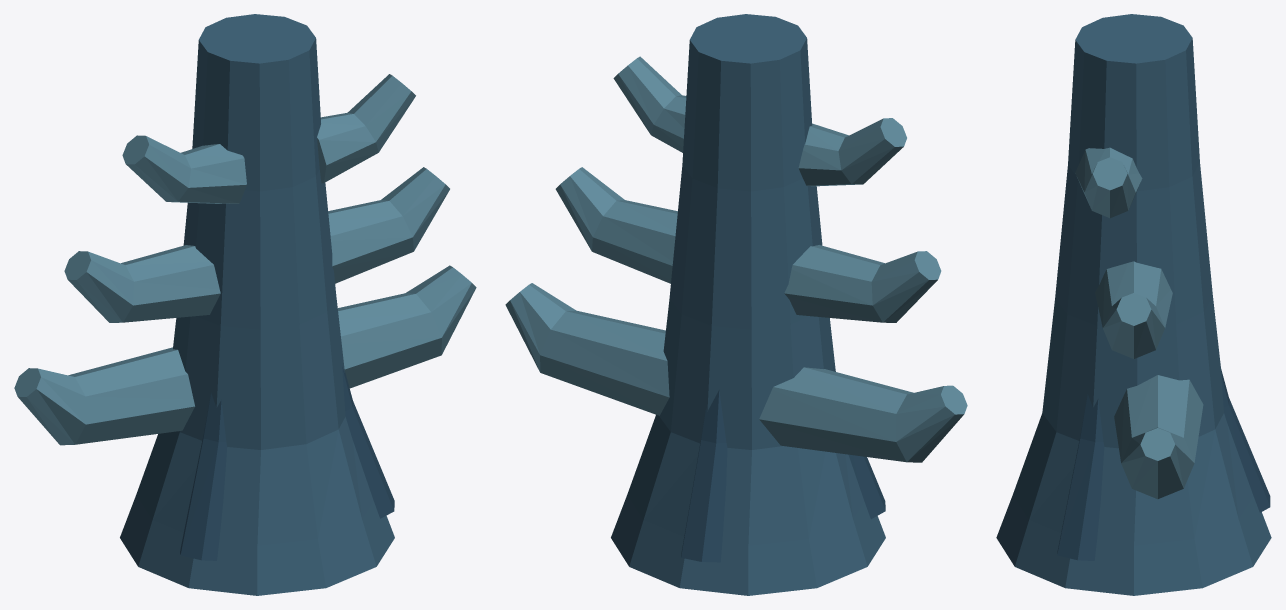
The model's file is AzureCedarTrunk.obj.
3 renders of one model, left to right at view 1: azimuth 30°, elevation 25°; view 2: azimuth 150°, elevation 25°; view 3: azimuth 270°, elevation 25°, orthographic.
Parts seen in each view (by area): view 1: AzureCedarTrunk_AzureCedarBark, AzureCedarTrunk_CedarBranchShelves, AzureCedarTrunk_CedarBarkRidges; view 2: AzureCedarTrunk_AzureCedarBark, AzureCedarTrunk_CedarBranchShelves, AzureCedarTrunk_CedarBarkRidges; view 3: AzureCedarTrunk_AzureCedarBark, AzureCedarTrunk_CedarBranchShelves, AzureCedarTrunk_CedarBarkRidges.
Boxes of the visible parts, bbox=[...] form: AzureCedarTrunk_AzureCedarBark: bbox=[120, 14, 394, 595]; AzureCedarTrunk_CedarBranchShelves: bbox=[14, 74, 476, 445]; AzureCedarTrunk_CedarBarkRidges: bbox=[180, 366, 394, 560]; AzureCedarTrunk_AzureCedarBark: bbox=[611, 14, 885, 595]; AzureCedarTrunk_CedarBranchShelves: bbox=[505, 56, 967, 462]; AzureCedarTrunk_CedarBarkRidges: bbox=[681, 366, 885, 562]; AzureCedarTrunk_AzureCedarBark: bbox=[996, 14, 1271, 595]; AzureCedarTrunk_CedarBranchShelves: bbox=[1075, 147, 1203, 499]; AzureCedarTrunk_CedarBarkRidges: bbox=[1057, 369, 1270, 560].
Bounding box in the file's own units: 2.87 × 3 × 1.5.
